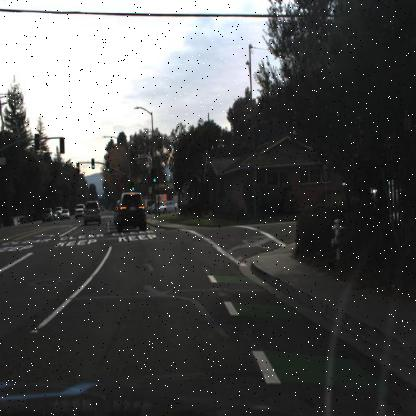car: (117, 195, 145, 232), (82, 198, 101, 224), (156, 198, 181, 216), (40, 207, 52, 223), (75, 204, 85, 218), (61, 209, 68, 220)
trafficLight-Green: (151, 170, 157, 186), (90, 157, 96, 170), (152, 172, 157, 186), (130, 180, 135, 192), (91, 156, 95, 170), (106, 161, 110, 174), (106, 162, 110, 174)
